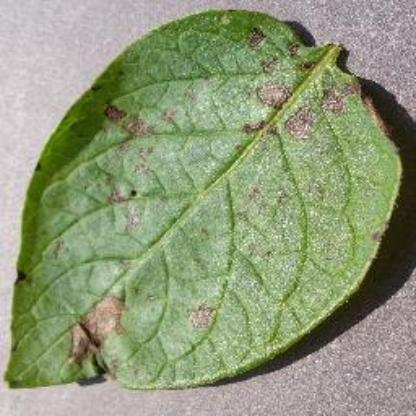Early-Blight: (9, 7, 401, 393)
